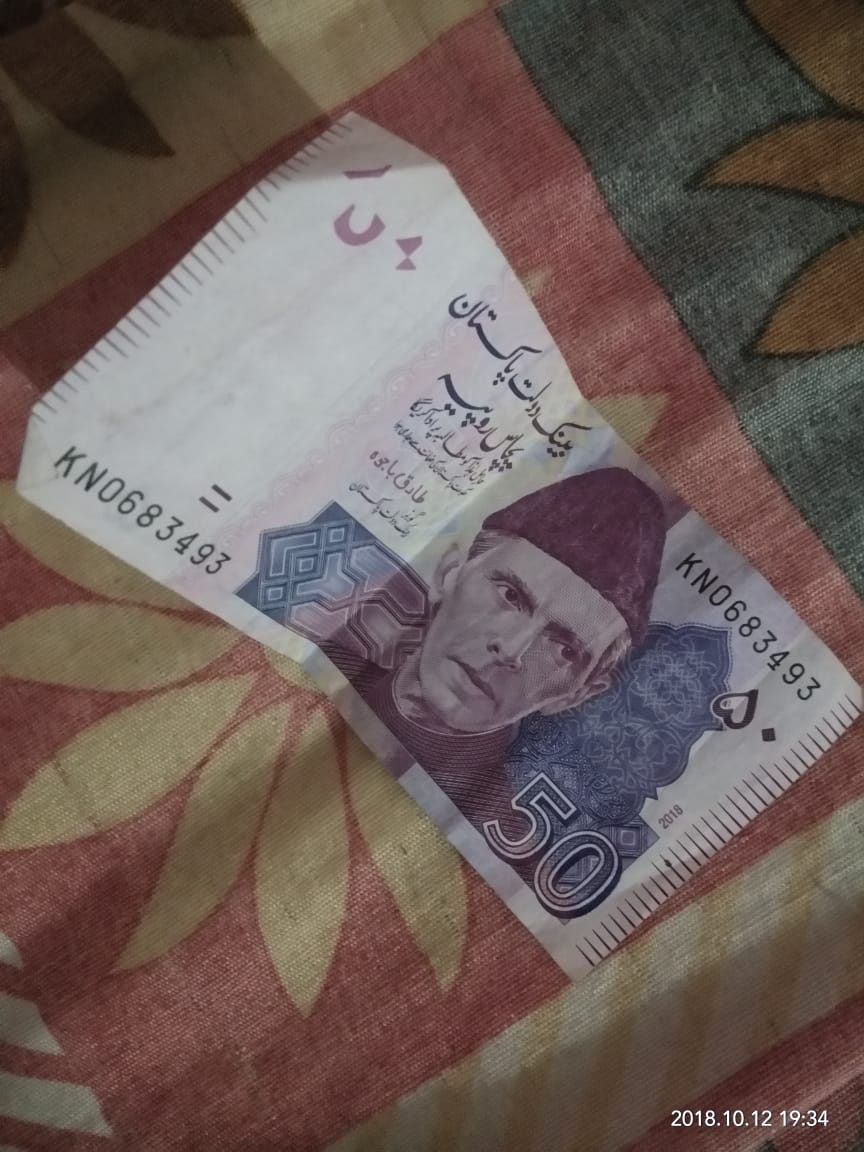50 rupee: (18, 113, 861, 1000)
